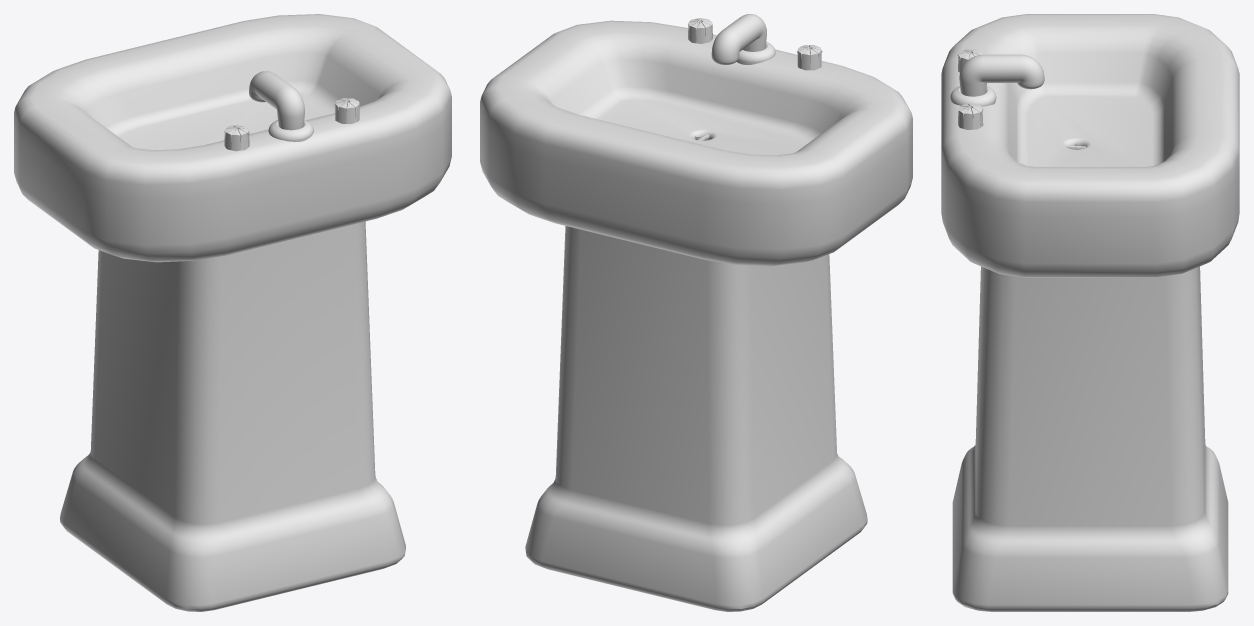
The model's file is Sink.fbx.
3 renders of one model, left to right at view 1: azimuth 30°, elevation 25°; view 2: azimuth 150°, elevation 25°; view 3: azimuth 270°, elevation 25°, orthographic. The views are drawn at different scales.
Parts seen in each view (by area): view 1: Sink; view 2: Sink; view 3: Sink.
Boxes of the visible parts, x1=… form: Sink: x1=14, y1=14, x2=451, y2=611; Sink: x1=480, y1=14, x2=912, y2=611; Sink: x1=941, y1=14, x2=1239, y2=611.
Bounding box in the file's own units: 295 × 386 × 208.
